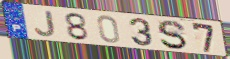0: (96, 14, 122, 44)
3: (128, 17, 154, 48)
7: (191, 21, 216, 54)
8: (64, 12, 90, 42)
J: (33, 10, 58, 38)
S: (156, 19, 189, 51)
